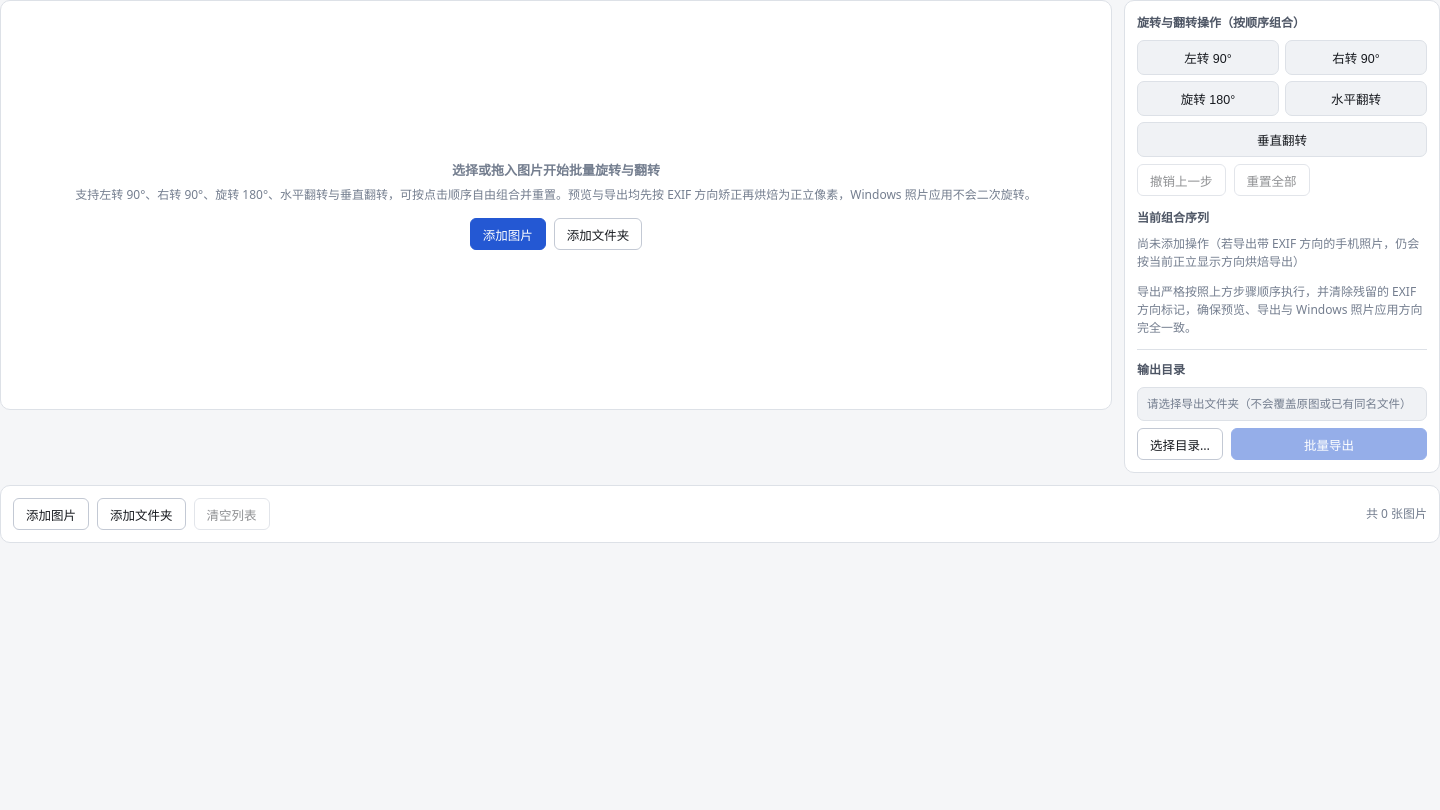
Test case: ImageRotateWorkspace (I08) › composes rotate and flip steps in exact click order, resets cleanly, and exports batch
Click the button "添加图片" below "选择或拖入图片开始批量旋转与翻转". click: (508, 234)
box: [470,218,546,250]
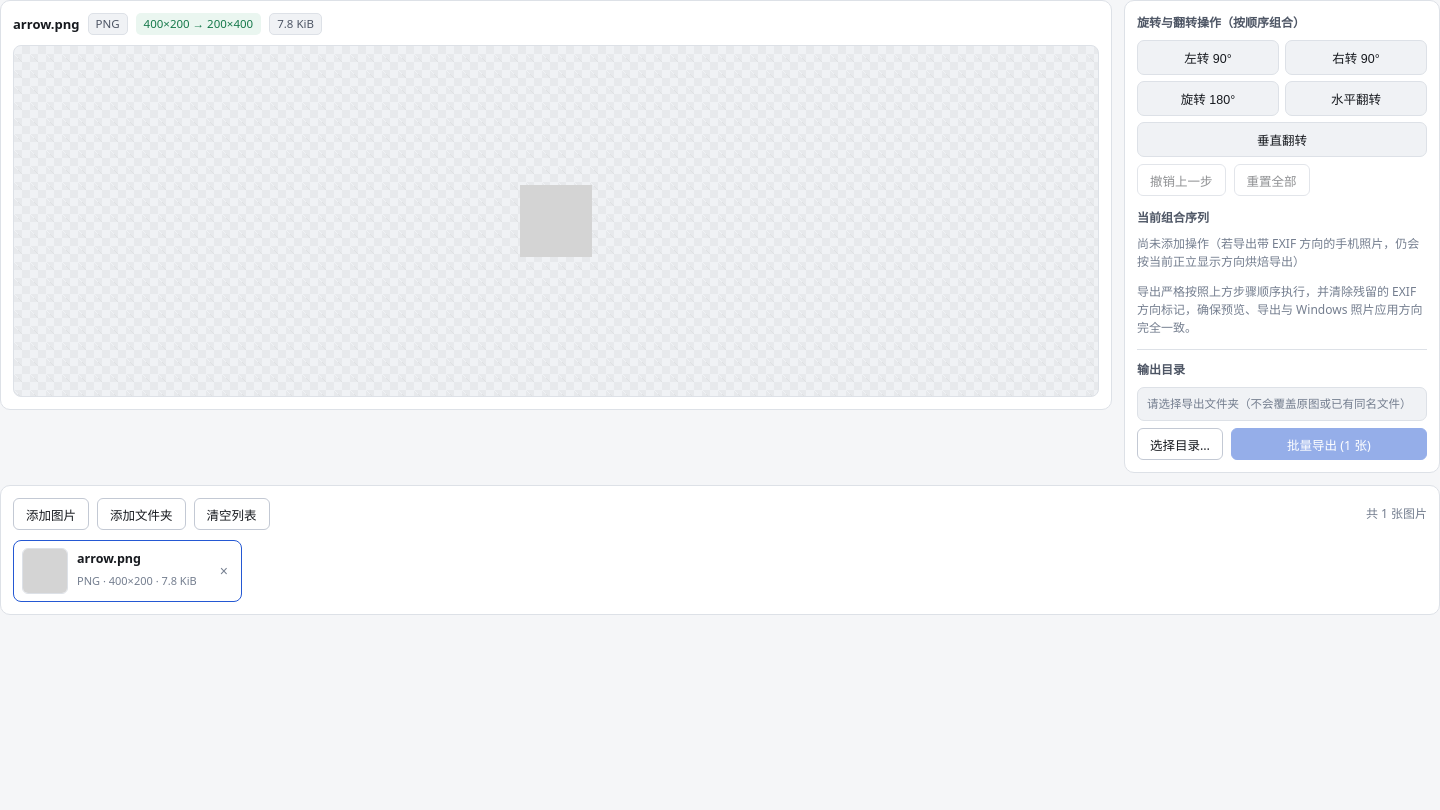
Expected: the text "arrow.png" in the row of "400×200 → 200×400" is shown, [13,15,80,33]
Click the button "右转 90°". click: (1356, 58)
box: [1285,40,1427,75]
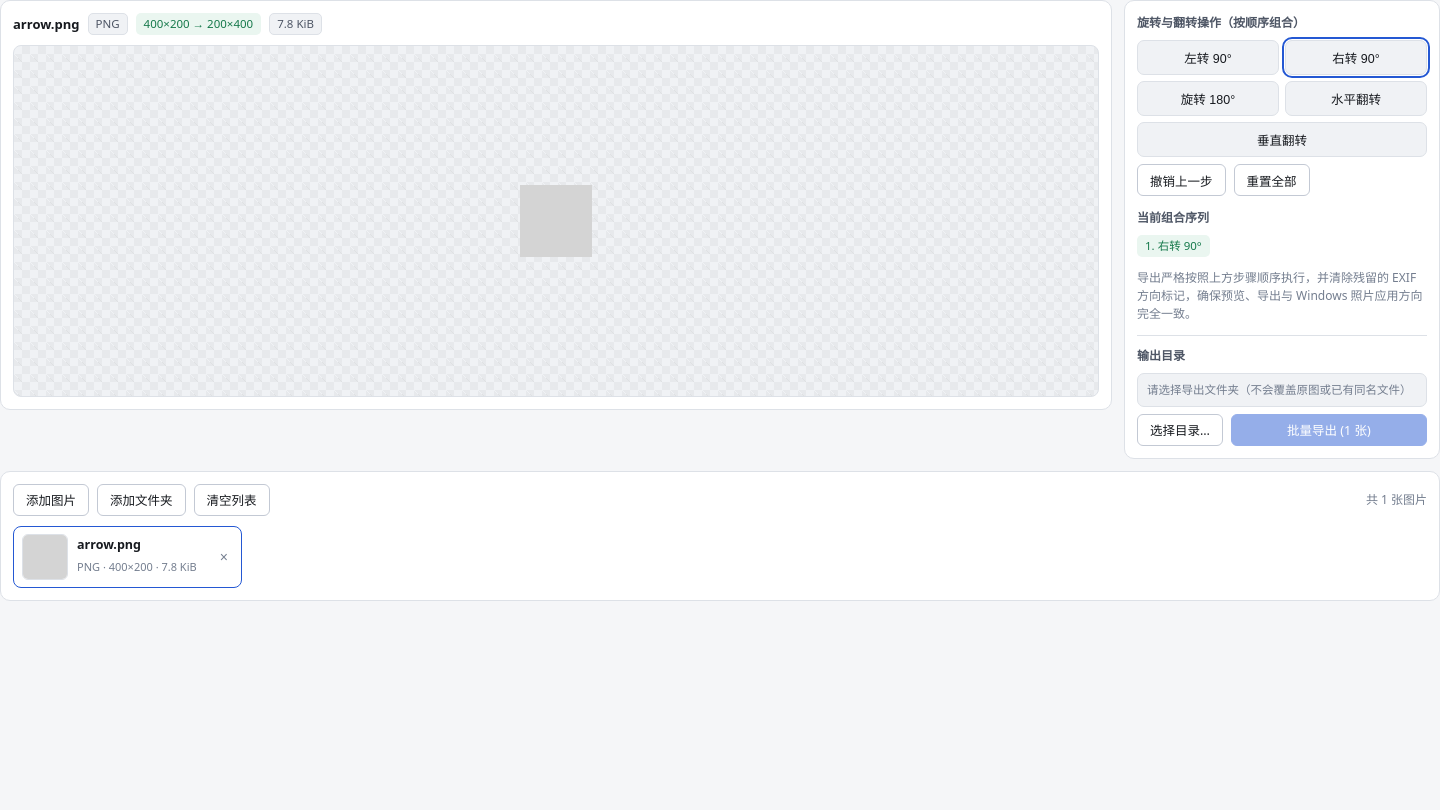
Click the button "水平翻转". click: (1356, 98)
box: [1285,81,1427,116]
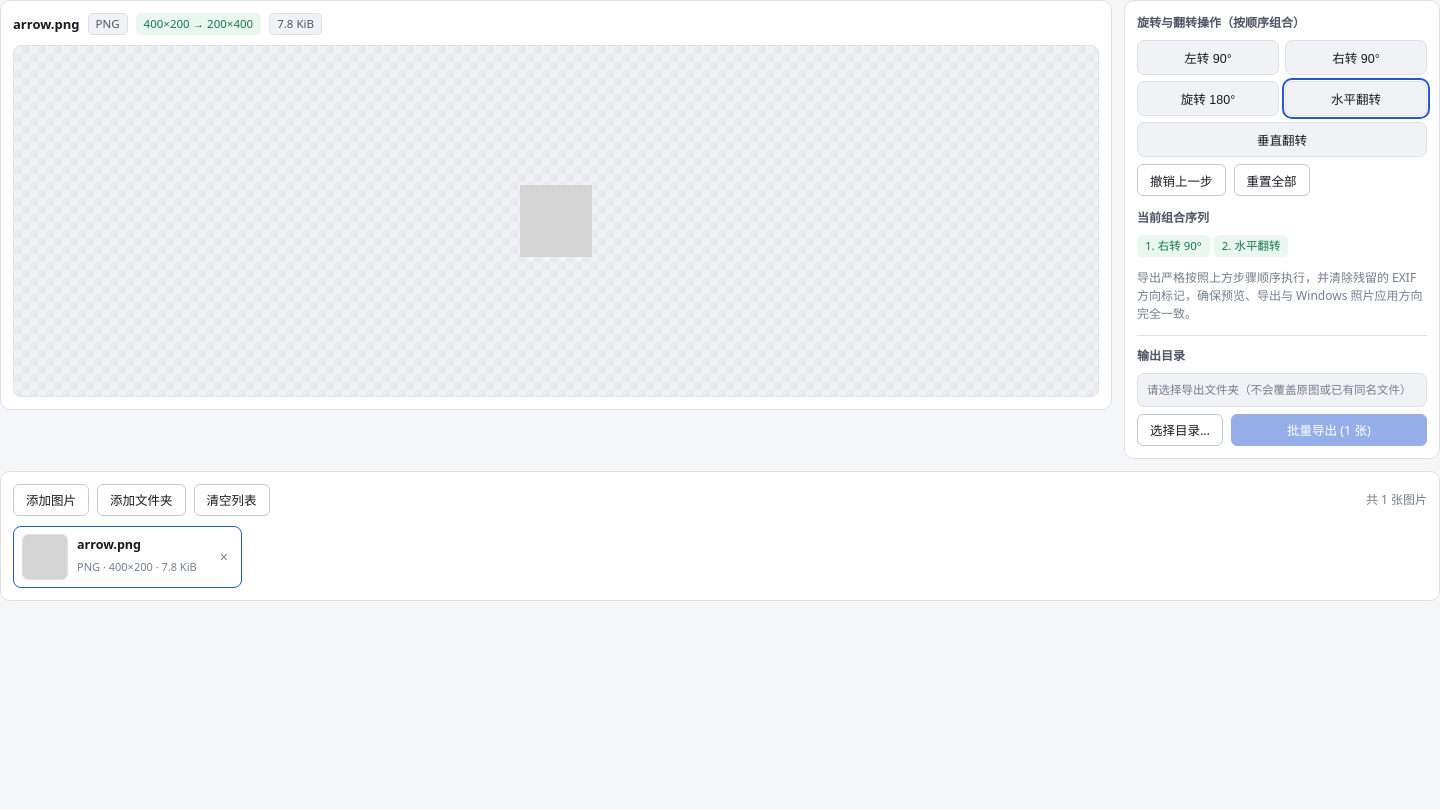
Expected: the text "1. 右转 90°" is shown, [1137,235,1210,256]
Expected: the text "2. 水平翻转" is shown, [1214,235,1288,256]
Click the button "选择目录…". click: (1180, 430)
box: [1137,414,1223,446]
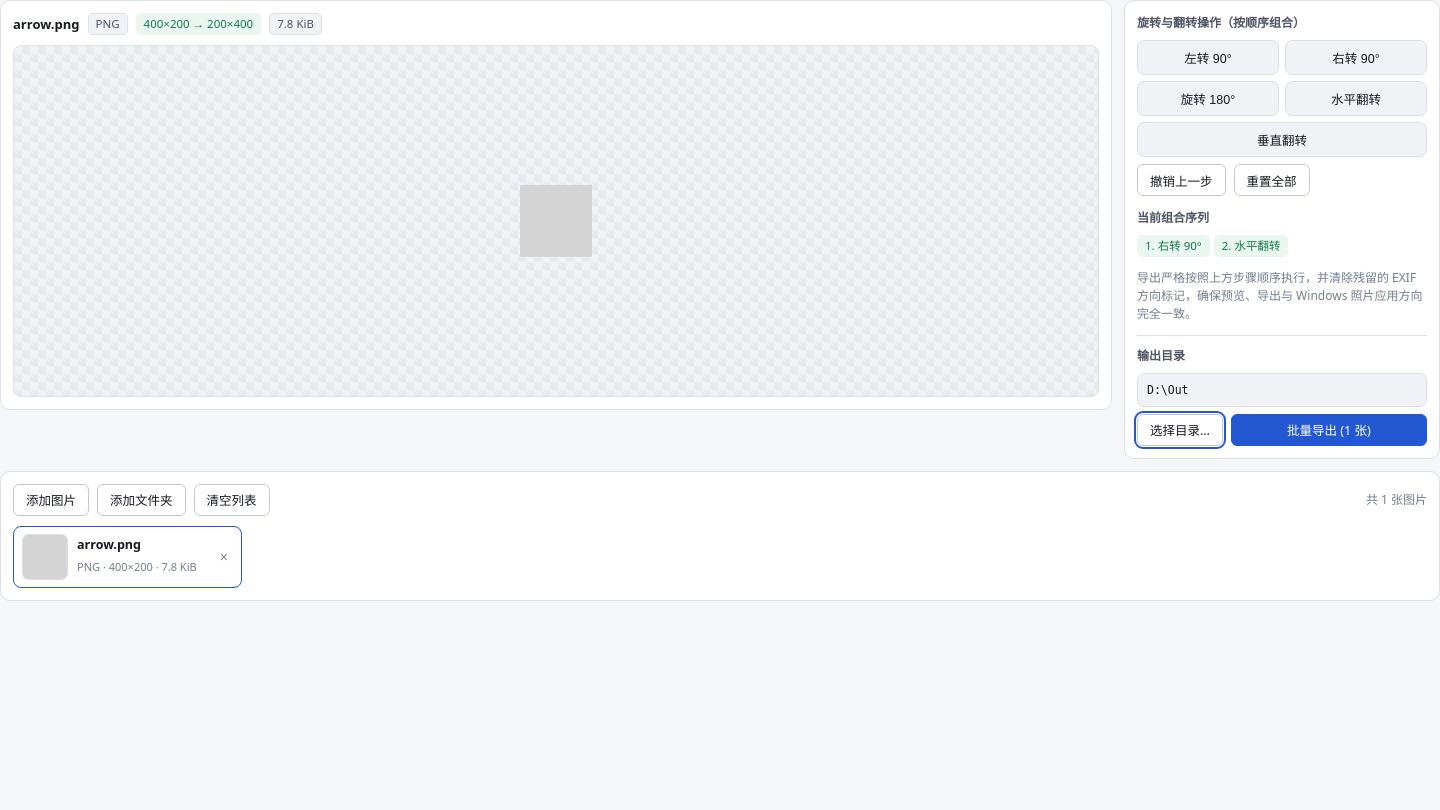
Click the button "批量导出 (1 张)". click: (1329, 430)
box: [1231,414,1427,446]
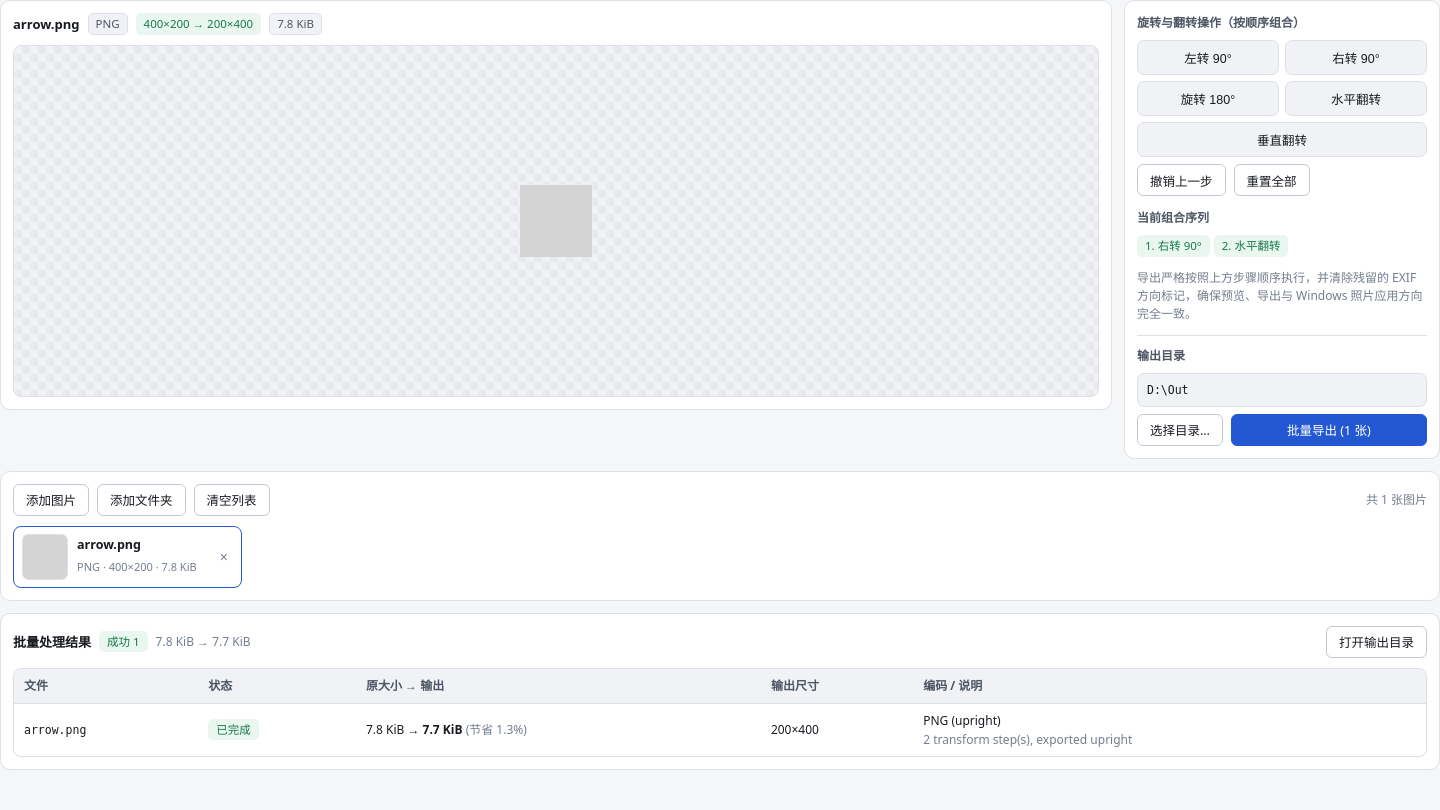
Click the button "重置全部". click: (1272, 180)
box: [1234,164,1310,196]
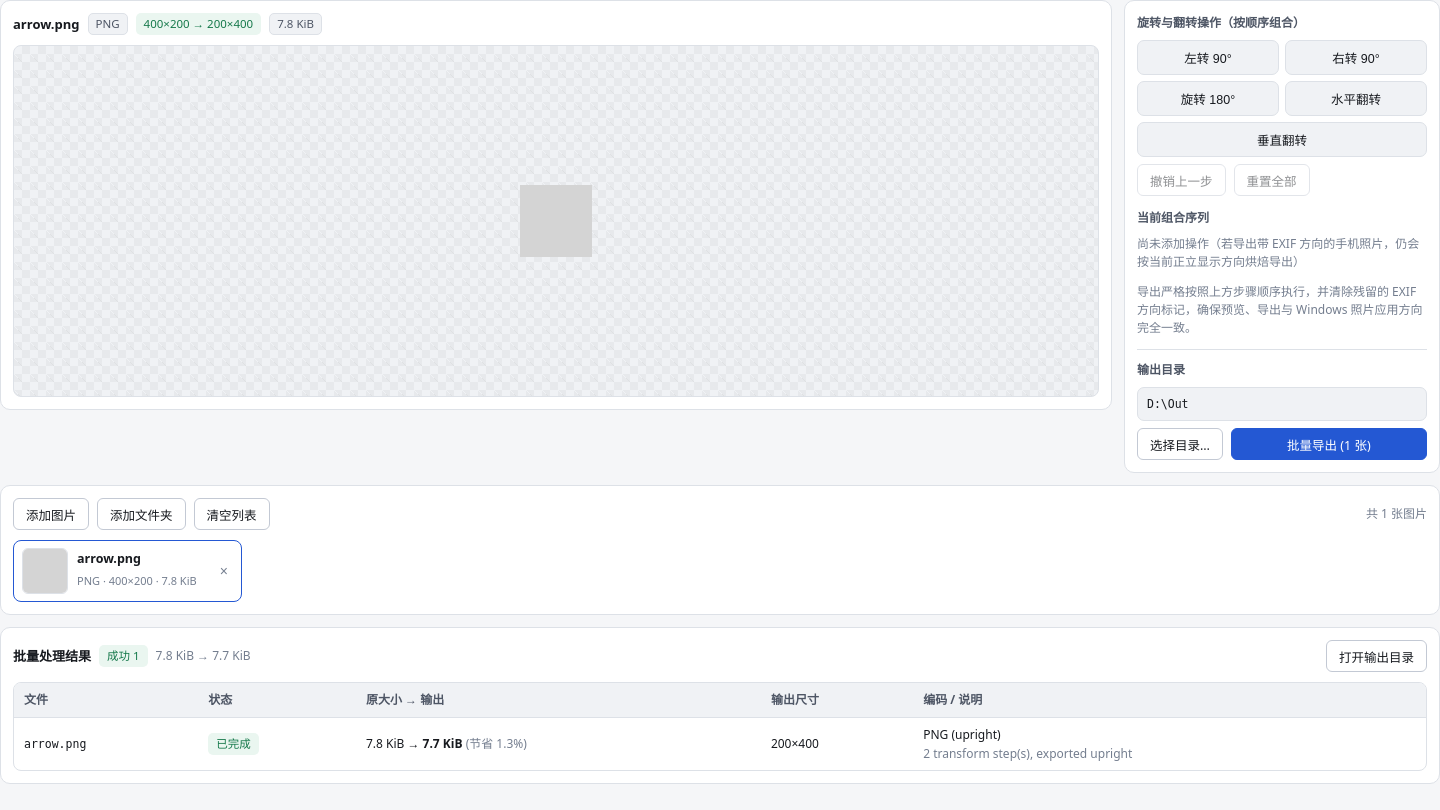
Expected: the text "1. 右转 90°" is gone
